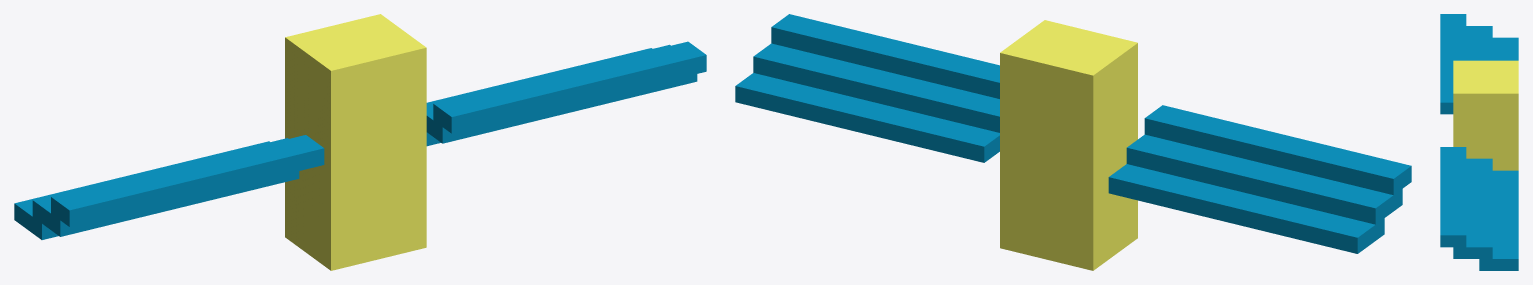
File: satellite.fbx
3 views of the same model, side by side, from view 1: azimuth 30°, elevation 25°; view 2: azimuth 150°, elevation 25°; view 3: azimuth 270°, elevation 25° (orthographic). The views are drawn at different scales.
Visible parts, largest first — view 1: satellite:Mesh; view 2: satellite:Mesh; view 3: satellite:Mesh.
Part boxes in pixels (<box>): satellite:Mesh: <box>14,14,706,270</box>; satellite:Mesh: <box>735,14,1411,270</box>; satellite:Mesh: <box>1440,14,1518,270</box>.
Bounding box in the file's own units: 40 × 12 × 6.
Materials: 1 (1 with a texture image).
